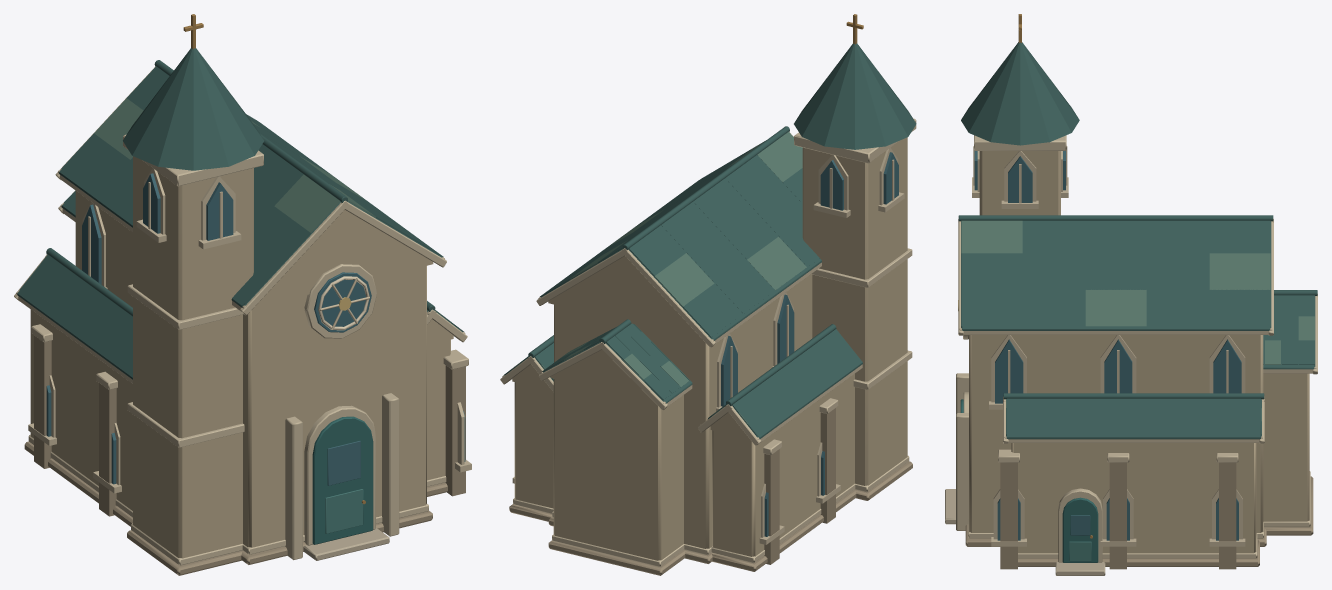
The model's file is cathedral_level_3.glb.
3 views of the same model, side by side, from view 1: azimuth 30°, elevation 25°; view 2: azimuth 150°, elevation 25°; view 3: azimuth 270°, elevation 25° (orthographic). The views are drawn at different scales.
Visible parts, largest first — view 1: cathedral_level_3_runtime; view 2: cathedral_level_3_runtime; view 3: cathedral_level_3_runtime.
Part boxes in pixels (x1,y1,x2,y2): cathedral_level_3_runtime: (14, 14, 471, 575); cathedral_level_3_runtime: (500, 14, 916, 575); cathedral_level_3_runtime: (945, 14, 1317, 575).
Bounding box in the file's own units: 7.39 × 11.09 × 8.37.
